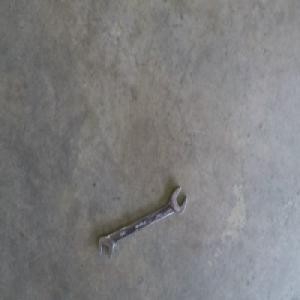Wrench: (98, 187, 187, 259)
